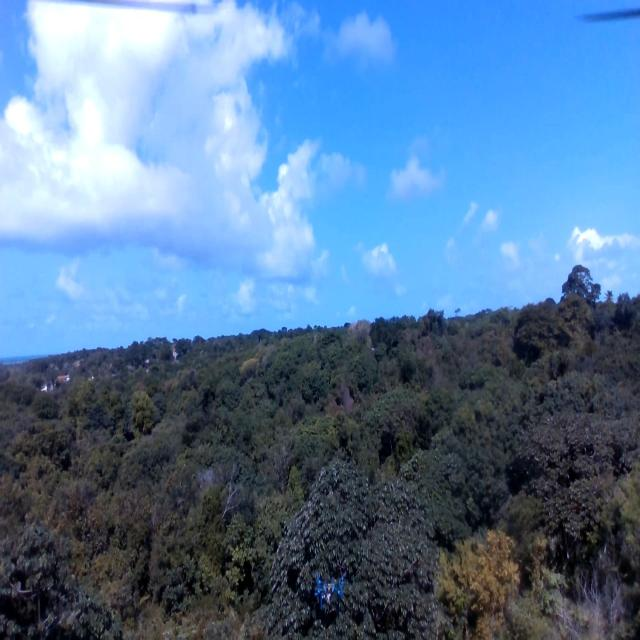-uav-: (314, 566, 348, 610)
